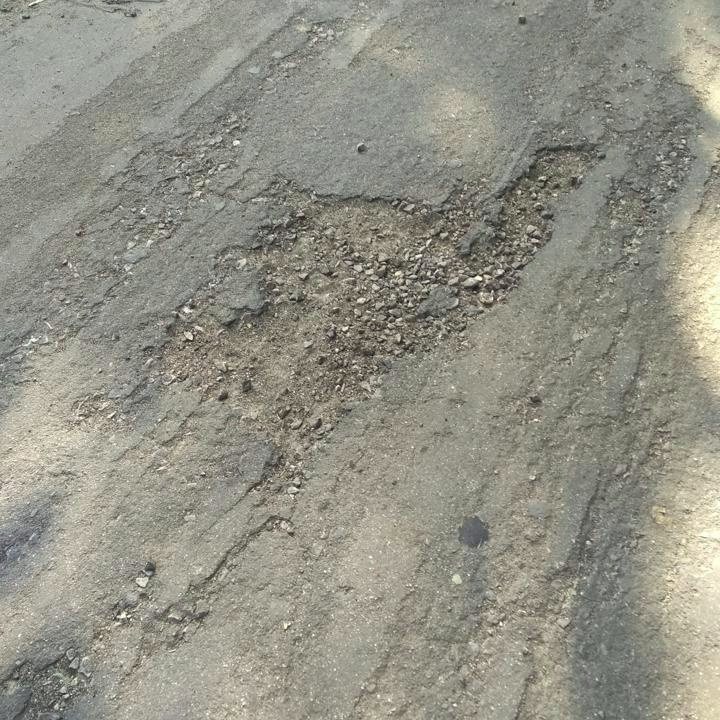pothole: (142, 166, 509, 473), (490, 140, 603, 304)
